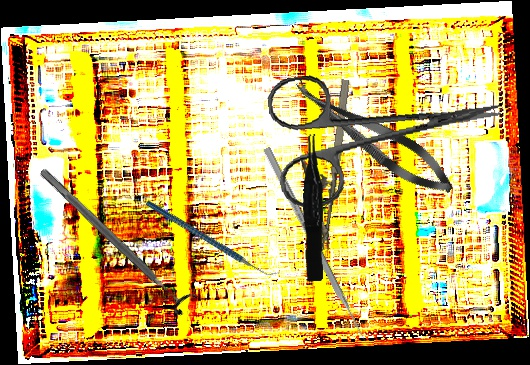Chopper: (145, 165, 281, 312)
Fixation Ring: (31, 159, 200, 320)
Iris Scissors: (265, 49, 511, 212)
Micro Scissor: (285, 68, 462, 206)
Needle Holder: (286, 74, 356, 252)
Pusher: (262, 146, 372, 350)
Tissue Forceps: (300, 133, 328, 282)
